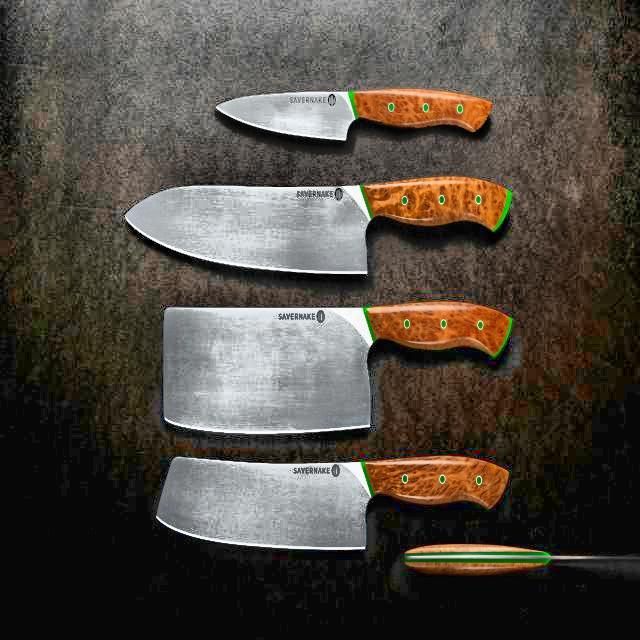knife: (161, 296, 522, 438), (124, 174, 522, 278), (156, 452, 518, 552), (212, 74, 496, 144)
